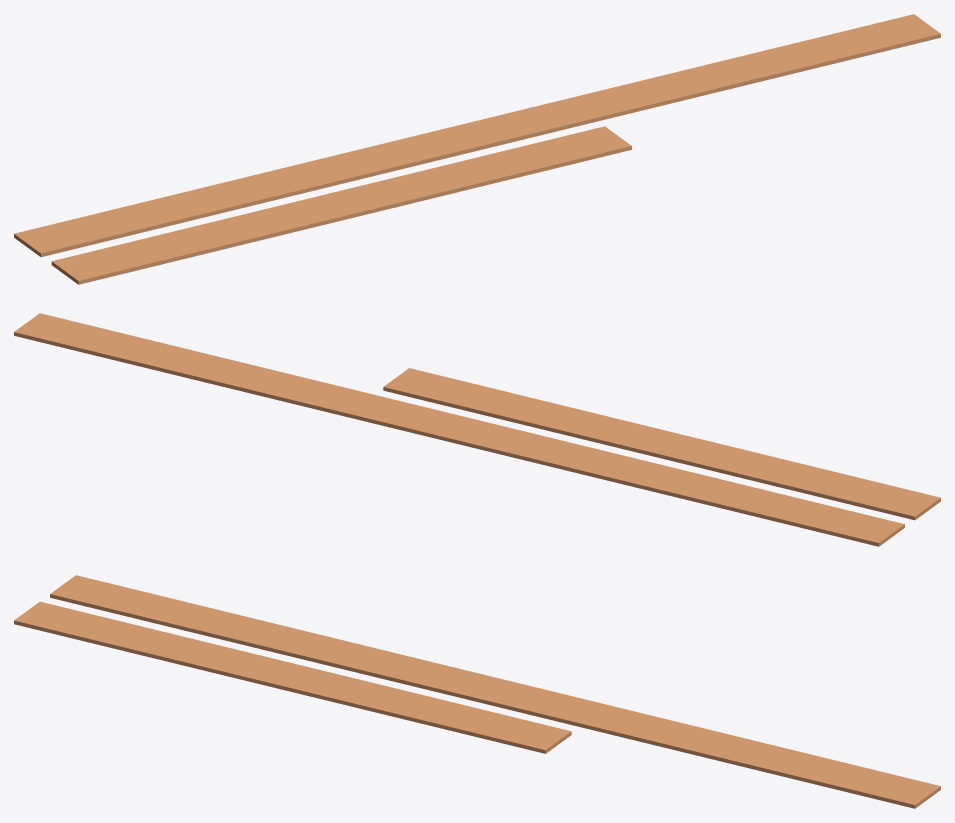
The model's file is ceiling-plank-253x20_itauba-oro_v0.1.glb.
3 views of the same model, one above another, from view 1: azimuth 30°, elevation 25°; view 2: azimuth 150°, elevation 25°; view 3: azimuth 330°, elevation 25° (orthographic). The views are drawn at different scales.
Visible parts, largest first — view 1: IB-40519_ceiling-plank-253x20_itauba-oro_4880mm, IB-40502_ceiling-plank-253x20_itauba-oro_3000mm; view 2: IB-40519_ceiling-plank-253x20_itauba-oro_4880mm, IB-40502_ceiling-plank-253x20_itauba-oro_3000mm; view 3: IB-40519_ceiling-plank-253x20_itauba-oro_4880mm, IB-40502_ceiling-plank-253x20_itauba-oro_3000mm.
Boxes of the visible parts, x1=… form: IB-40519_ceiling-plank-253x20_itauba-oro_4880mm: x1=14, y1=14, x2=940, y2=257; IB-40502_ceiling-plank-253x20_itauba-oro_3000mm: x1=51, y1=126, x2=631, y2=284; IB-40519_ceiling-plank-253x20_itauba-oro_4880mm: x1=14, y1=313, x2=904, y2=546; IB-40502_ceiling-plank-253x20_itauba-oro_3000mm: x1=383, y1=368, x2=940, y2=520; IB-40519_ceiling-plank-253x20_itauba-oro_4880mm: x1=50, y1=575, x2=940, y2=808; IB-40502_ceiling-plank-253x20_itauba-oro_3000mm: x1=14, y1=601, x2=571, y2=753.
Bounding box in the file's own units: 4.88 × 0.02 × 0.606.
